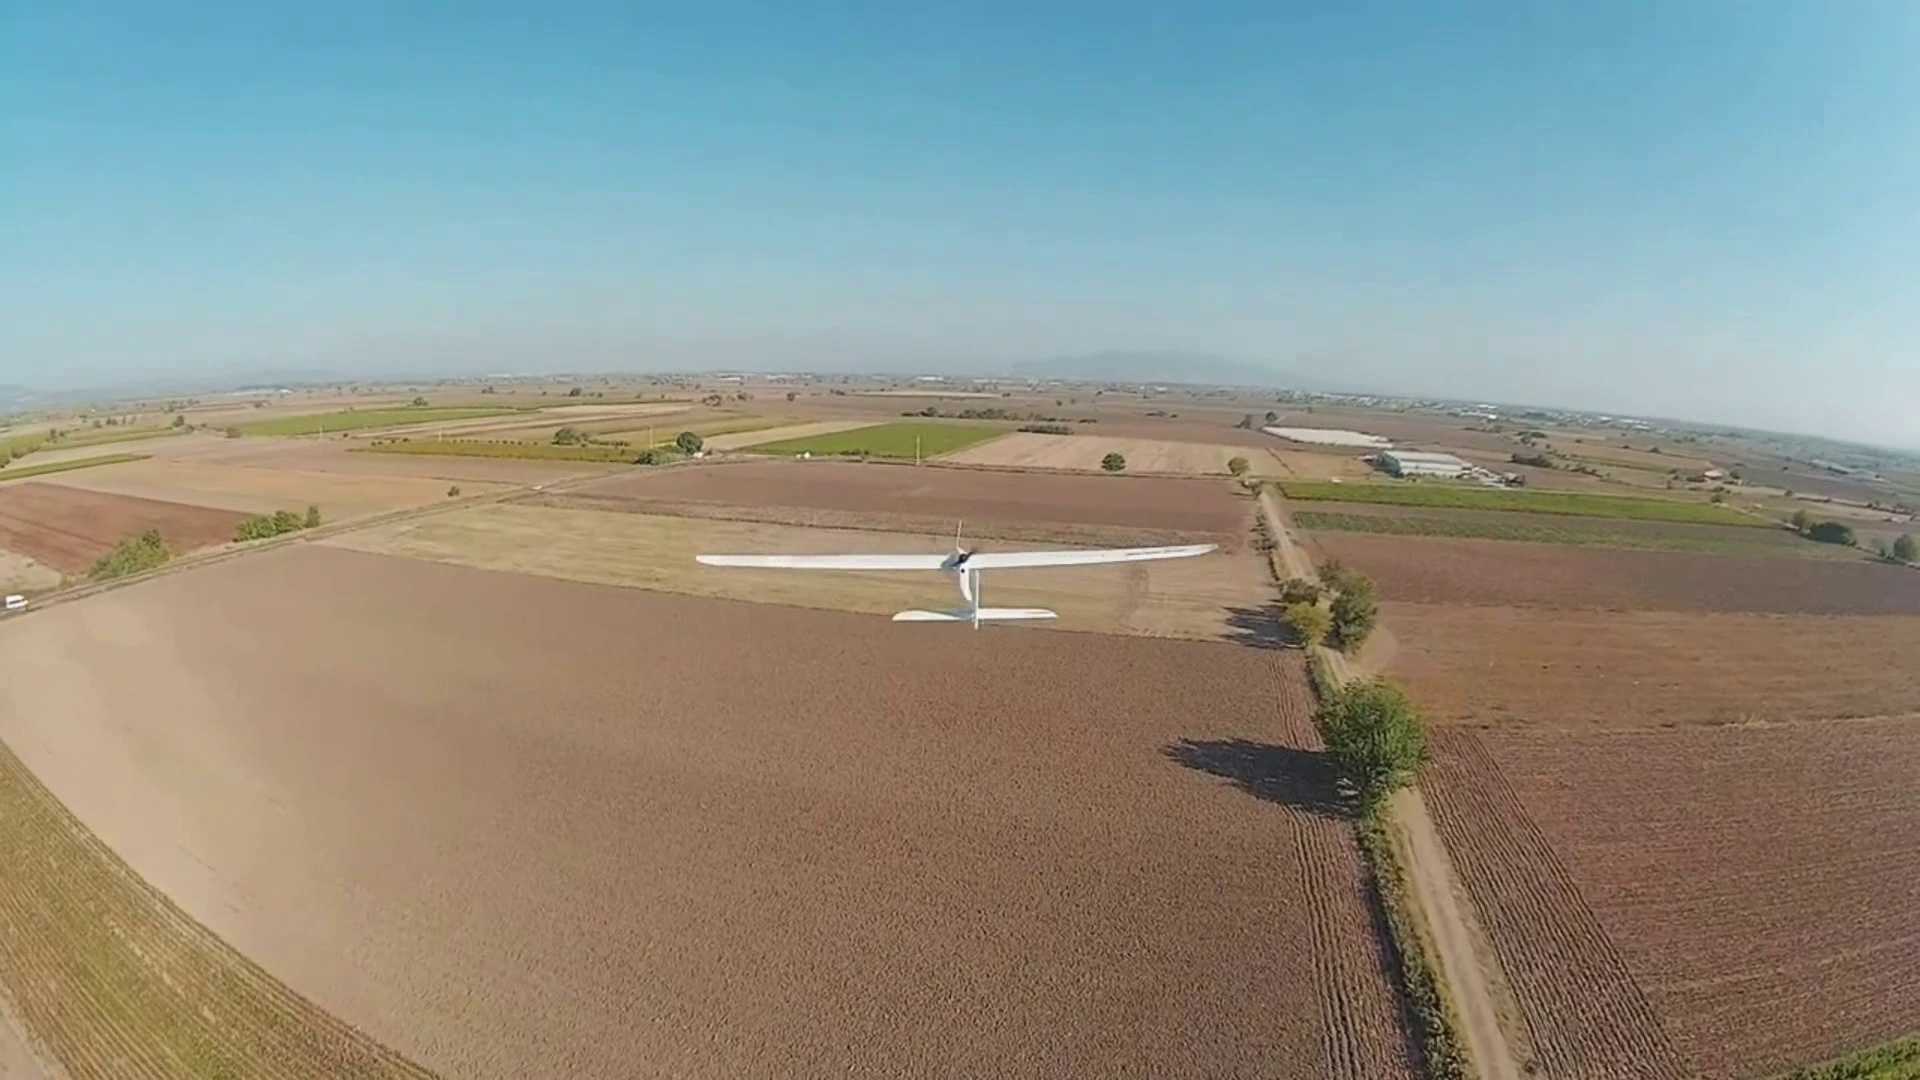airplane: (688, 529, 1222, 622)
